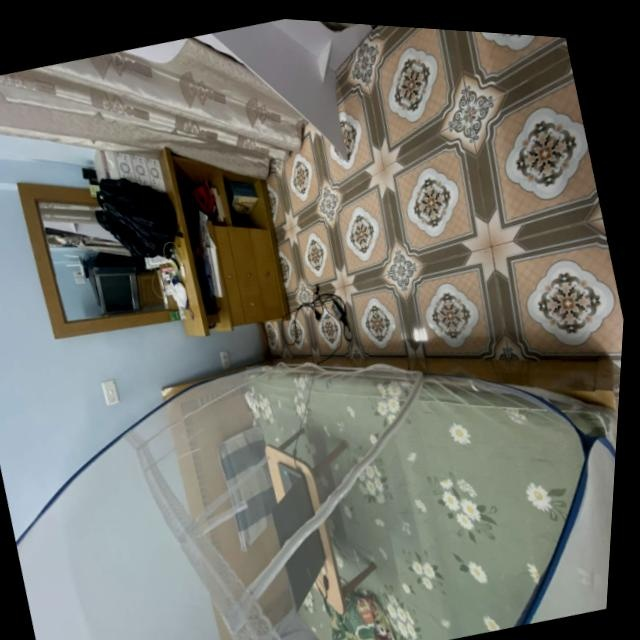outlet: (217, 348, 231, 369)
